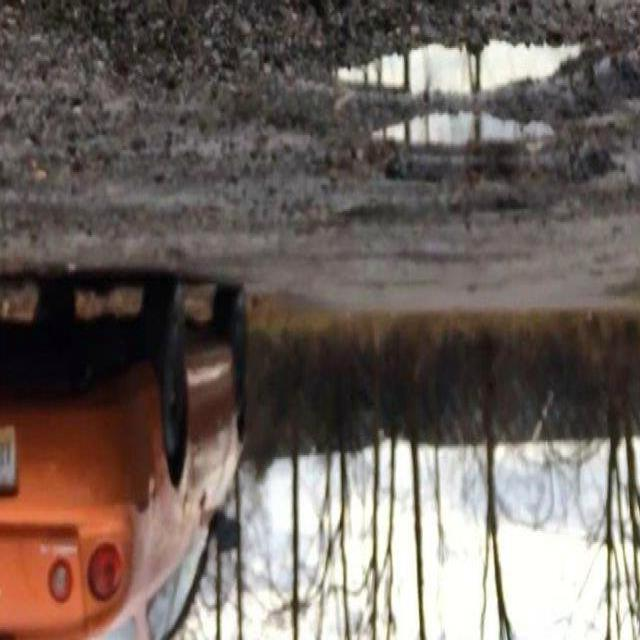lubang: (309, 34, 606, 190), (168, 54, 334, 172), (292, 190, 412, 232), (440, 182, 538, 230), (333, 266, 442, 296), (396, 230, 473, 268)
